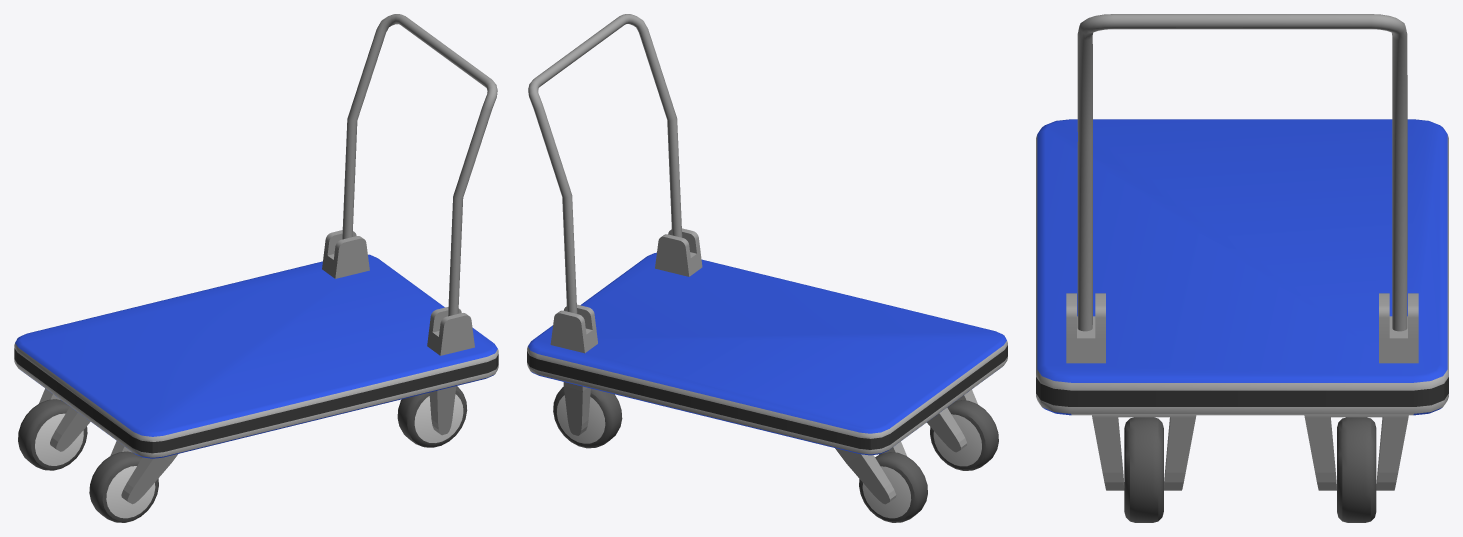
The model's file is tasiyici.fbx.
3 views of the same model, side by side, from view 1: azimuth 30°, elevation 25°; view 2: azimuth 150°, elevation 25°; view 3: azimuth 270°, elevation 25° (orthographic). The views are drawn at different scales.
Visible parts, largest first — view 1: govde.003, kol, teker.002, teker.004, teker.003; view 2: govde.003, kol, teker.004, teker.002, teker.005; view 3: govde.003, kol, teker.003, teker.005.
Boxes of the visible parts, x1,y1,x2,y2 form: govde.003: (14, 230, 498, 504); kol: (342, 14, 497, 316); teker.002: (89, 451, 158, 522); teker.004: (18, 399, 87, 470); teker.003: (397, 386, 467, 447); govde.003: (527, 228, 1007, 504); kol: (528, 14, 682, 313); teker.004: (859, 452, 927, 522); teker.002: (930, 400, 998, 470); teker.005: (553, 387, 622, 448); govde.003: (1036, 119, 1448, 490); kol: (1077, 14, 1407, 331); teker.003: (1124, 417, 1163, 522); teker.005: (1337, 417, 1376, 522).
Size of the model in its own units: 405 by 358 by 249.
